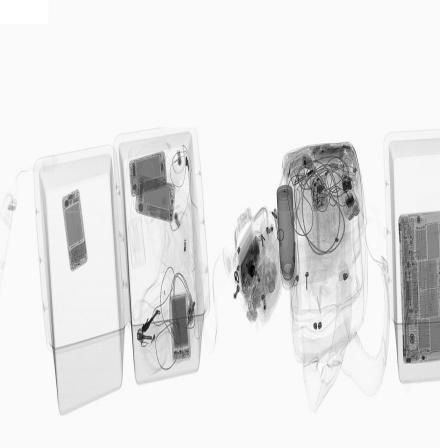Powerbank: (169, 289, 192, 365)
